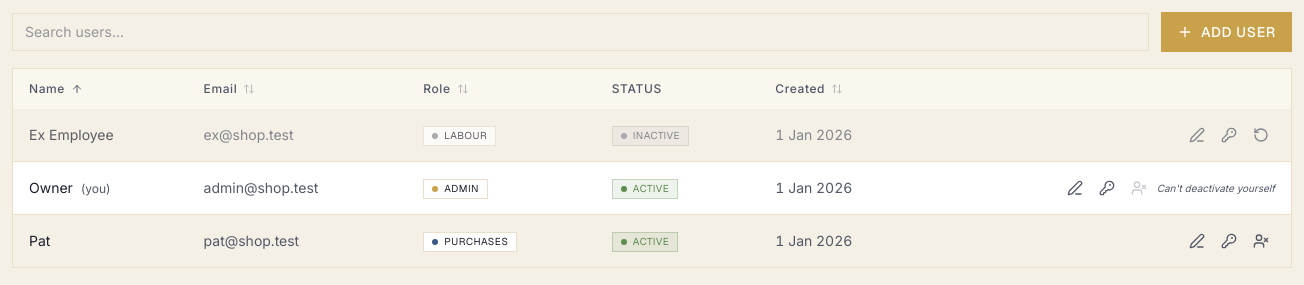
Scenario: UsersTable — search filter › shows 'no users match your search' when filter yields nothing
Type "zzz-nomatch" into the search field with placeholder "Search users…" at point(580, 32), box x1=12 y1=13 x2=1149 y2=51
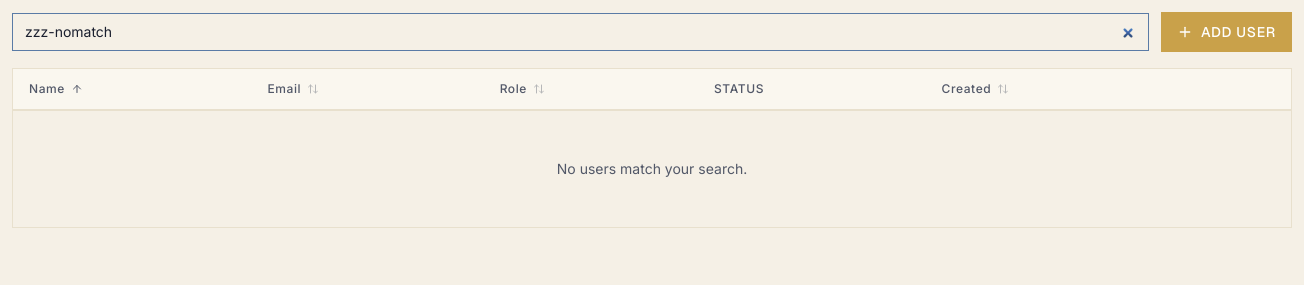
Result: the text "No users match your search." is shown at x1=557 y1=160 x2=747 y2=177
